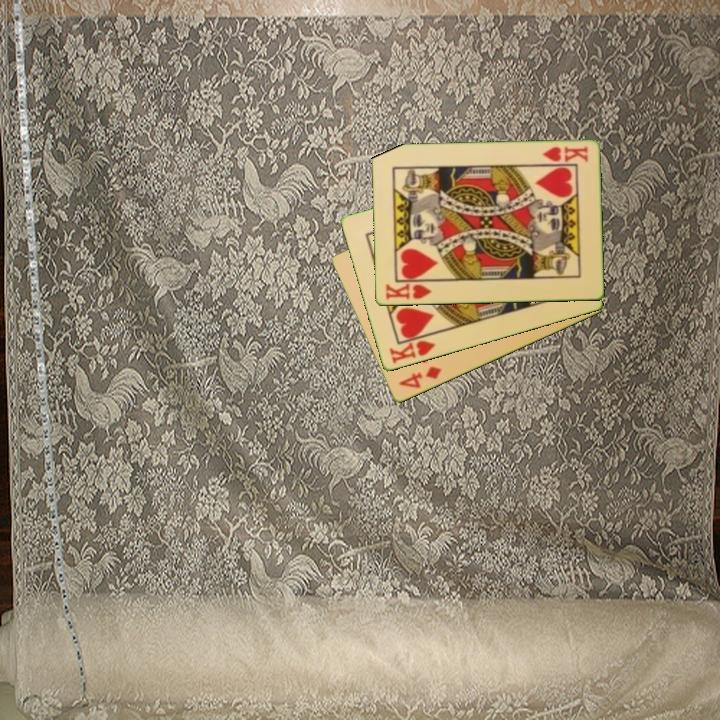4d: (395, 363, 444, 392)
Kh: (386, 331, 438, 367), (382, 278, 437, 303), (539, 143, 590, 166)
